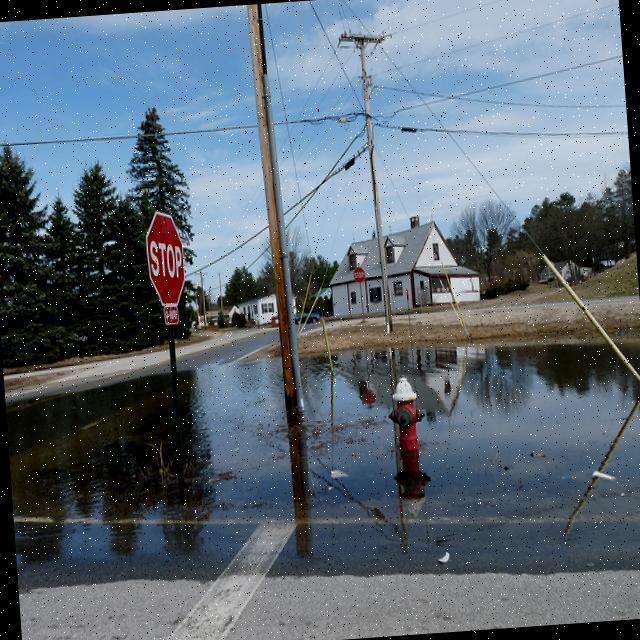fire_hydrant: (385, 371, 426, 453)
